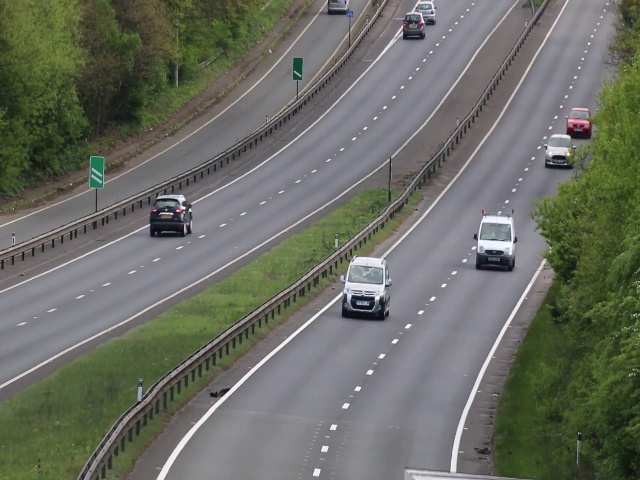car: (341, 256, 390, 321), (476, 211, 517, 271), (150, 191, 194, 238), (546, 128, 574, 171), (564, 106, 593, 139), (402, 12, 427, 40), (422, 1, 438, 24), (327, 1, 347, 13)
